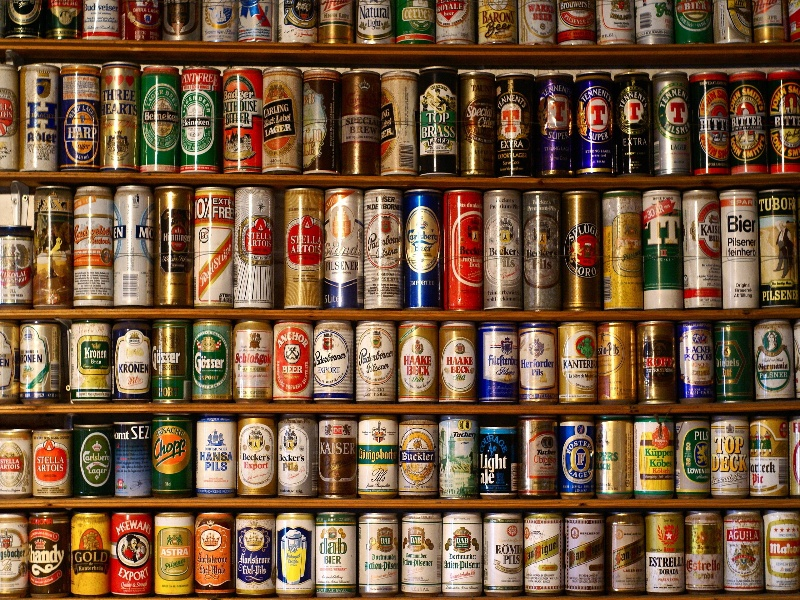beer: (192, 183, 237, 308), (151, 180, 194, 309), (559, 188, 604, 311), (398, 187, 443, 309), (111, 182, 154, 309), (681, 189, 725, 310), (277, 189, 321, 308), (640, 190, 683, 311), (177, 63, 223, 173), (441, 190, 483, 310), (362, 189, 404, 308), (483, 190, 524, 311), (74, 182, 113, 309), (603, 190, 644, 310), (416, 59, 458, 176), (524, 191, 565, 310), (493, 66, 537, 176), (725, 184, 762, 312), (62, 60, 104, 172), (649, 66, 691, 178), (35, 185, 72, 312), (325, 192, 365, 307), (221, 62, 262, 174), (261, 62, 301, 174), (301, 65, 341, 177), (235, 186, 272, 307), (140, 61, 180, 172), (533, 70, 574, 178), (728, 66, 767, 177), (691, 69, 731, 177), (102, 59, 140, 172), (341, 66, 380, 176), (378, 66, 417, 176), (760, 187, 796, 306), (459, 66, 496, 179), (611, 68, 649, 178), (269, 316, 317, 403), (636, 313, 678, 411), (574, 66, 611, 177), (393, 314, 438, 404), (234, 408, 278, 499), (435, 313, 478, 406), (22, 64, 58, 174), (149, 412, 193, 500), (278, 408, 320, 500), (191, 317, 236, 402), (356, 408, 398, 499), (314, 316, 358, 401), (230, 316, 272, 405), (556, 317, 596, 409), (714, 314, 755, 403), (519, 316, 558, 409), (634, 416, 677, 500), (398, 411, 439, 498), (481, 313, 519, 406), (111, 416, 153, 500), (19, 321, 63, 401), (68, 322, 111, 403), (757, 310, 794, 404), (196, 412, 235, 500), (318, 410, 356, 500), (477, 418, 521, 495), (152, 322, 192, 406), (680, 312, 716, 405), (355, 318, 395, 400), (113, 321, 153, 401), (596, 411, 632, 499), (71, 421, 112, 497), (598, 314, 633, 403), (522, 414, 559, 497), (561, 415, 597, 497), (441, 414, 476, 497), (677, 414, 712, 496), (33, 424, 67, 495)
